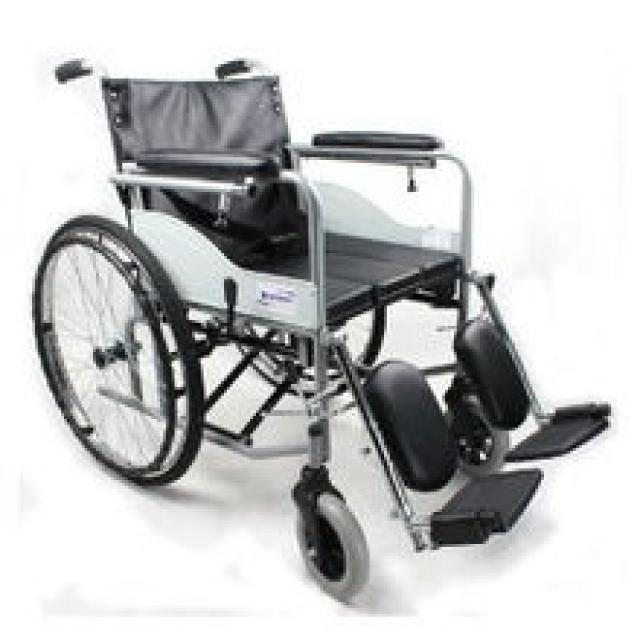wheelchair: (29, 44, 637, 596)
